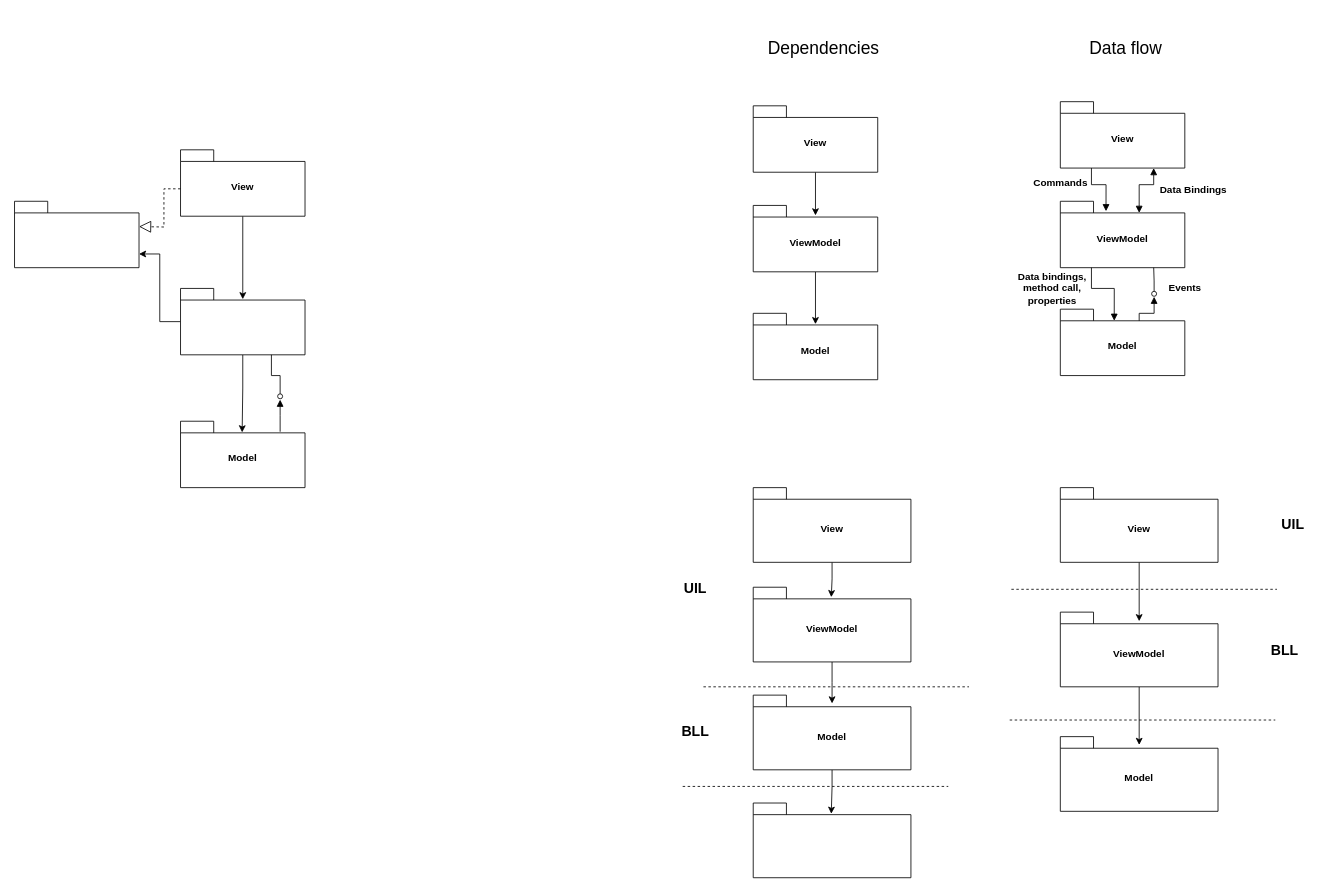
Some shapes in this 1340 by 892 pixel diagram are drawn without their labels. Each missing label, with the centre of its shape:
DAL: point 831,840
IView: point 76,234
Presenter: point 242,321
